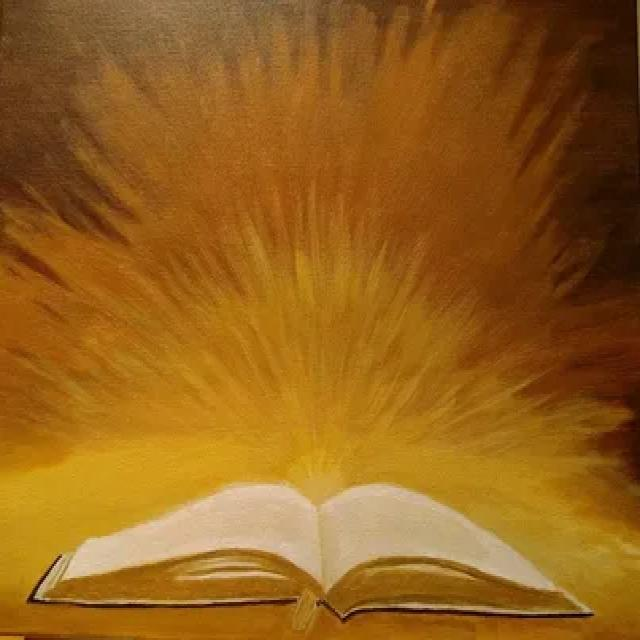book: (14, 470, 610, 640)
